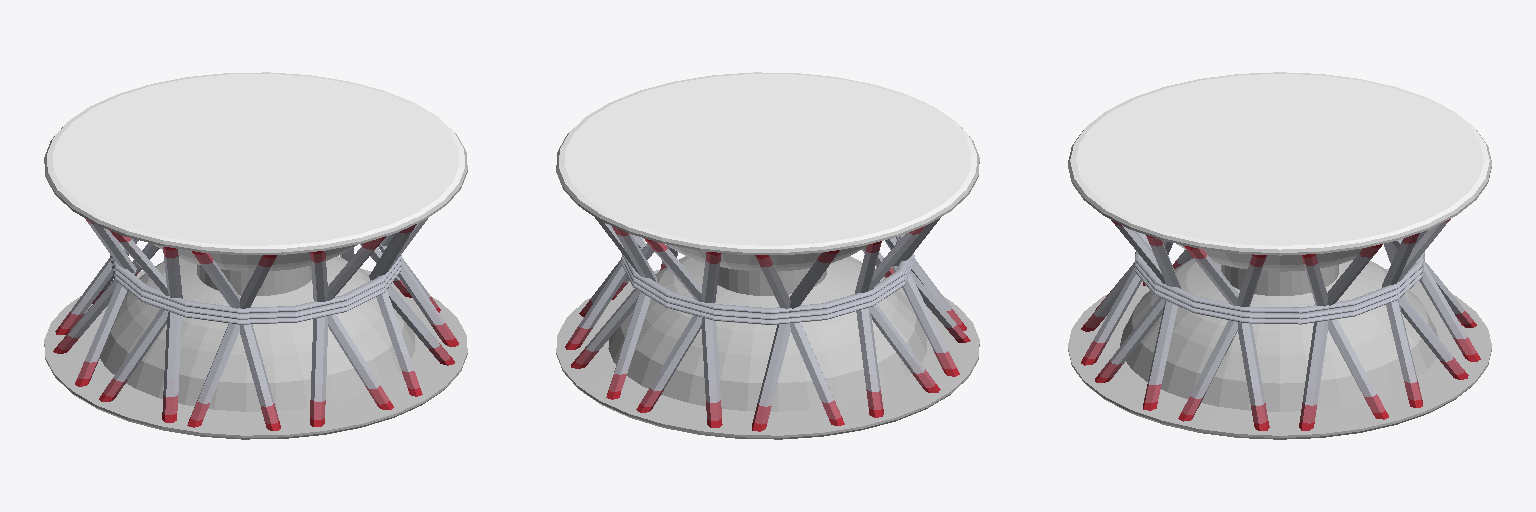
3 views of the same model, side by side, from view 1: azimuth 30°, elevation 25°; view 2: azimuth 150°, elevation 25°; view 3: azimuth 270°, elevation 25° (orthographic).
Visible parts, largest first — view 1: 円柱.003; view 2: 円柱.003; view 3: 円柱.003.
Part boxes in pixels (left/top/right/bottom): 円柱.003: left=44, top=72, right=467, bottom=439; 円柱.003: left=556, top=72, right=979, bottom=439; 円柱.003: left=1068, top=72, right=1491, bottom=439.
Size of the model in its own units: 2 by 1 by 2.
3 materials, 2 textured.